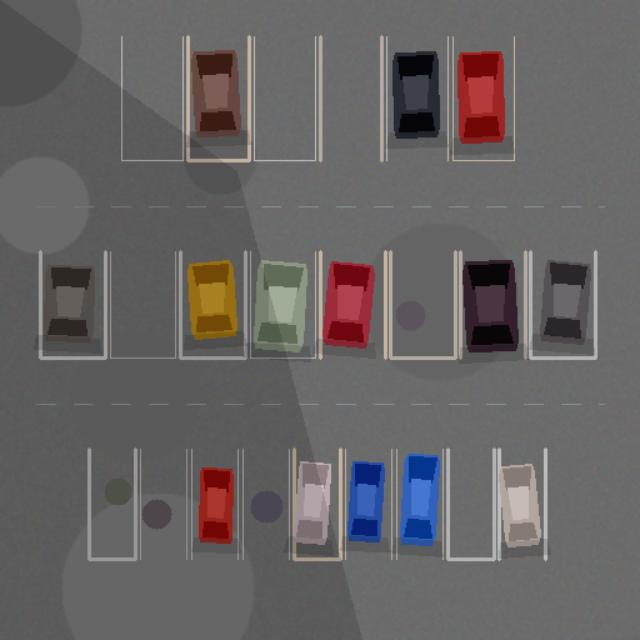space-empty: (121, 36, 183, 160), (254, 36, 315, 160), (320, 36, 381, 160), (110, 251, 175, 358), (390, 251, 455, 358), (242, 449, 289, 559), (89, 449, 135, 559), (140, 449, 186, 559), (448, 449, 494, 559)
space-occupied: (187, 36, 249, 160), (386, 36, 447, 160), (453, 36, 514, 160), (40, 251, 105, 358), (180, 251, 245, 358), (250, 251, 315, 358), (320, 251, 385, 358), (460, 251, 525, 358), (530, 251, 595, 358), (191, 449, 238, 559), (294, 449, 340, 559), (345, 449, 391, 559), (396, 449, 442, 559), (499, 449, 545, 559)
